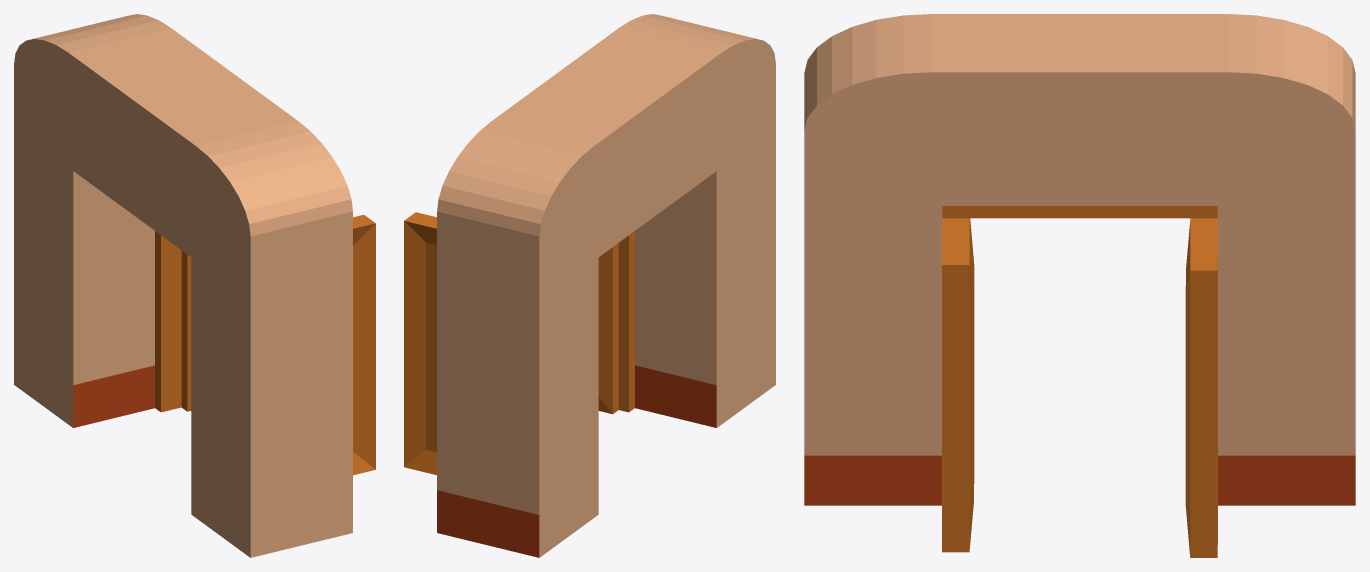
File: paredefachada.fbx
3 views of the same model, side by side, from view 1: azimuth 30°, elevation 25°; view 2: azimuth 150°, elevation 25°; view 3: azimuth 270°, elevation 25° (orthographic). The views are drawn at different scales.
Visible parts, largest first — view 1: parede porta fachada; view 2: parede porta fachada; view 3: parede porta fachada.
Boxes of the visible parts, x1,y1,x2,y2 form: parede porta fachada: [14, 14, 375, 557]; parede porta fachada: [404, 14, 775, 557]; parede porta fachada: [804, 14, 1355, 557].
Size of the model in its own units: 1.9 by 4 by 3.47.
3 materials, 2 textured.
